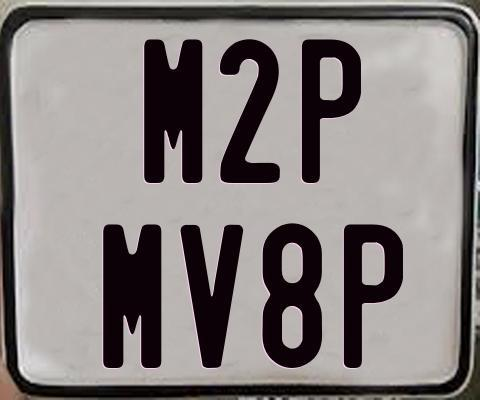2: (218, 37, 282, 181)
8: (261, 223, 322, 368)
M: (142, 38, 204, 187), (101, 223, 162, 370)
P: (301, 39, 363, 183), (341, 223, 401, 367)
V: (180, 224, 245, 373)
